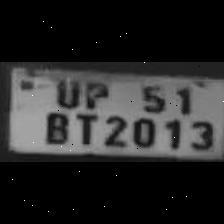0: (127, 114, 157, 148)
1: (168, 82, 198, 114), (158, 116, 184, 150)
2: (98, 110, 128, 148)
3: (184, 116, 216, 150)
5: (135, 80, 169, 112)
B: (40, 110, 70, 144)
P: (78, 77, 110, 107)
T: (70, 111, 98, 146)
U: (51, 75, 81, 107)
